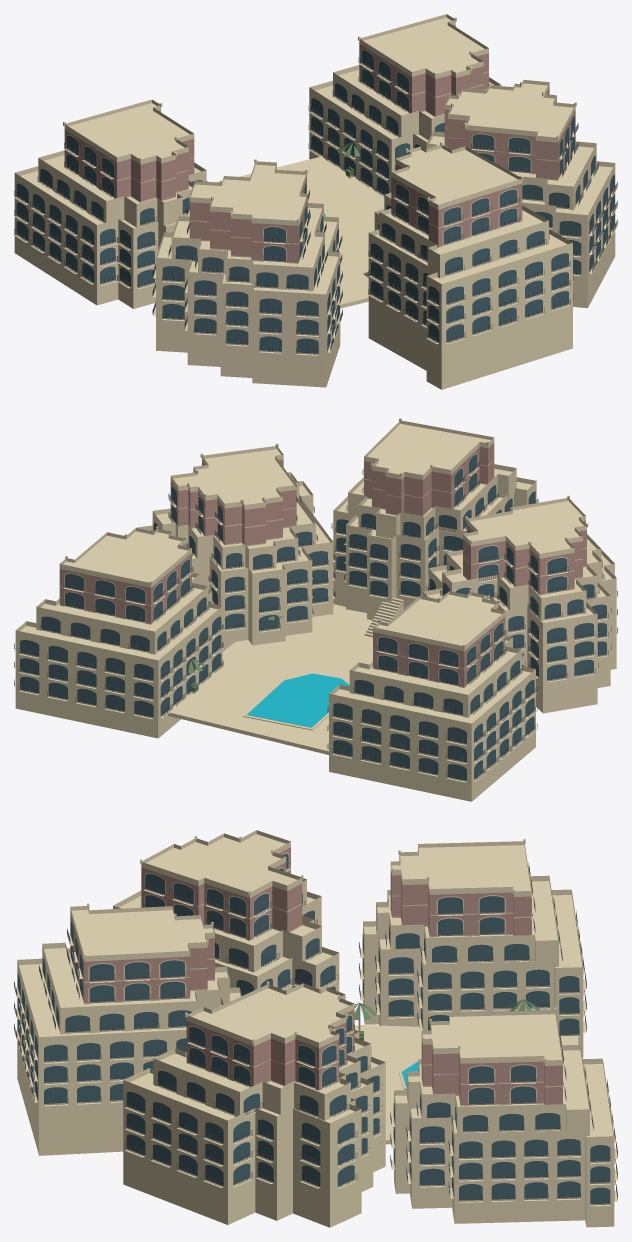
File: tas-sellum.glb
The picture shows the model from 3 angles, top to bottom: view 1: azimuth 30°, elevation 25°; view 2: azimuth 150°, elevation 25°; view 3: azimuth 270°, elevation 25°; orthographic projection. The views are drawn at different scales.
Visible parts, largest first — view 1: Block 5 - Rueckwaertiger Fluegel, Block 4 - Westterrassen, Block 2 - Meerseite West, Block 1 - Meerseite Ost, Block 3 - Ostterrassen, Poolhof mit Treppe und Palmen; view 2: Block 2 - Meerseite West, Block 1 - Meerseite Ost, Block 3 - Ostterrassen, Block 4 - Westterrassen, Block 5 - Rueckwaertiger Fluegel, Poolhof mit Treppe und Palmen; view 3: Block 3 - Ostterrassen, Block 1 - Meerseite Ost, Block 5 - Rueckwaertiger Fluegel, Block 2 - Meerseite West, Block 4 - Westterrassen, Poolhof mit Treppe und Palmen.
Boxes of the visible parts, x1,y1,x2,y2 form: Block 5 - Rueckwaertiger Fluegel: [368, 142, 573, 389]; Block 4 - Westterrassen: [152, 159, 342, 387]; Block 2 - Meerseite West: [14, 99, 207, 308]; Block 1 - Meerseite Ost: [308, 14, 501, 197]; Block 3 - Ostterrassen: [426, 80, 617, 308]; Poolhof mit Treppe und Palmen: [216, 142, 384, 308]; Block 2 - Meerseite West: [327, 589, 537, 801]; Block 1 - Meerseite Ost: [14, 526, 223, 738]; Block 3 - Ostterrassen: [137, 443, 335, 651]; Block 4 - Westterrassen: [423, 495, 617, 713]; Block 5 - Rueckwaertiger Fluegel: [331, 418, 538, 619]; Poolhof mit Treppe und Palmen: [168, 597, 403, 754]; Block 3 - Ostterrassen: [123, 981, 385, 1227]; Block 1 - Meerseite Ost: [390, 1007, 617, 1227]; Block 5 - Rueckwaertiger Fluegel: [14, 903, 241, 1155]; Block 2 - Meerseite West: [359, 838, 586, 1057]; Block 4 - Westterrassen: [113, 830, 339, 995]; Poolhof mit Treppe und Palmen: [354, 999, 578, 1144].
Bounding box in the file's own units: 75.87 × 26.08 × 77.25.
